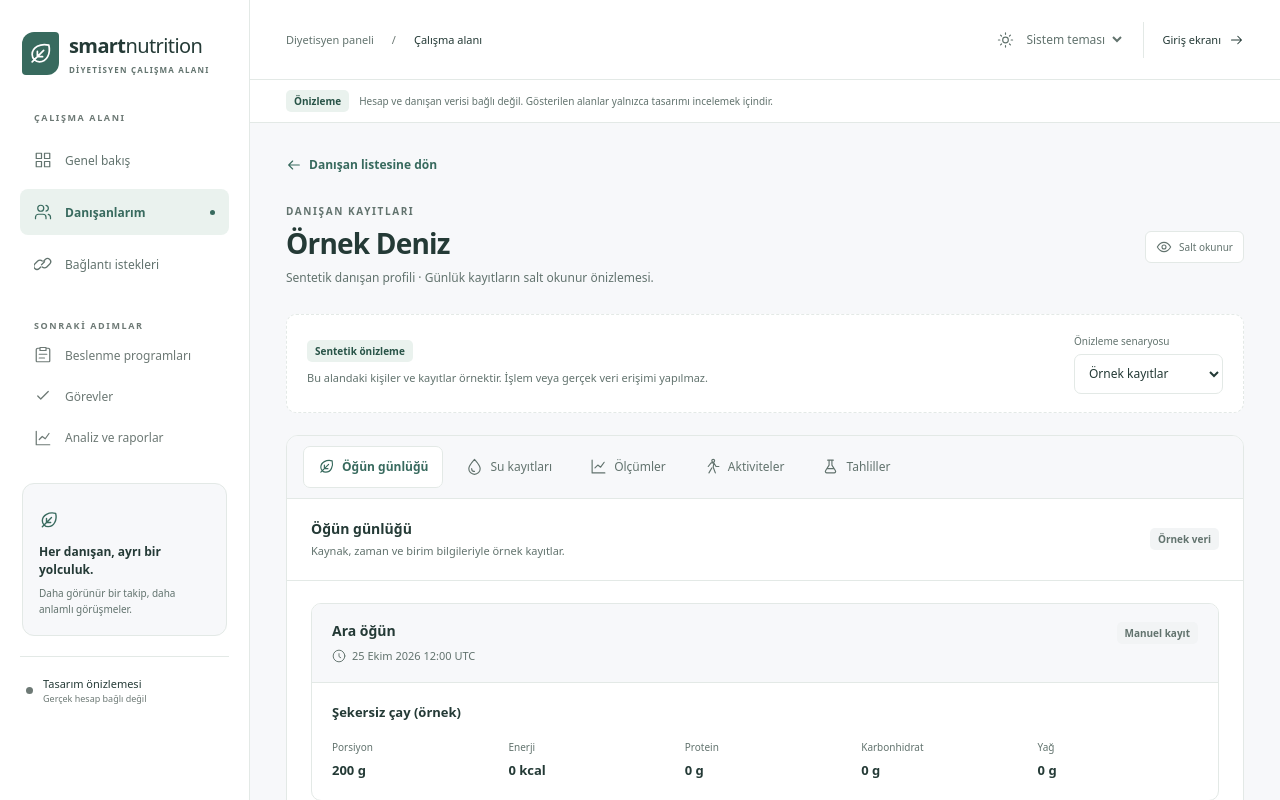
Scenario: read-only activity history › opens from the client navigation and shows units, source and unknown energy without requests or storage
Click the link "Aktiviteler" at (744, 467), box [704,458,784,475]
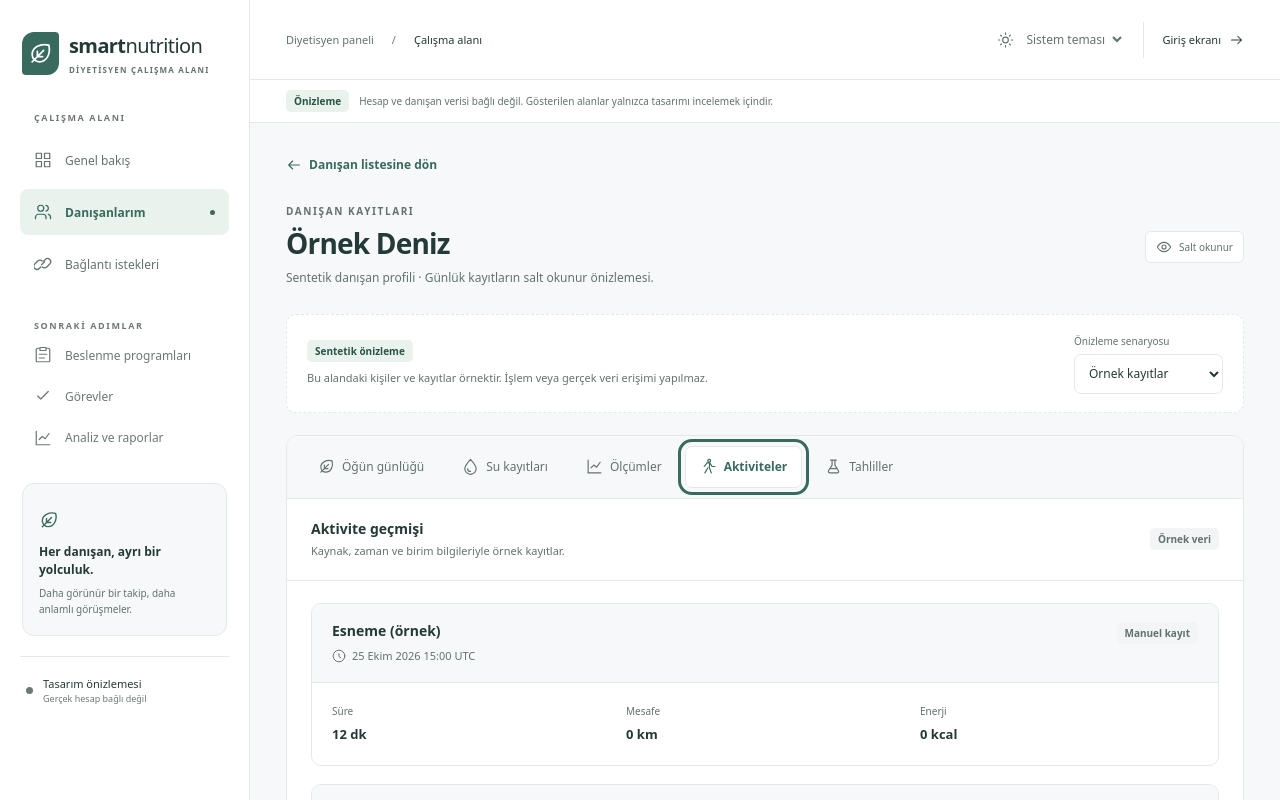
Expected: the text "0 kcal" is shown, [920,725,957,743]
Now the heading "Aktivite geçmişi" is shown, box [311,519,424,538]
Now the text "0 km" is shown, box [626,725,658,743]
